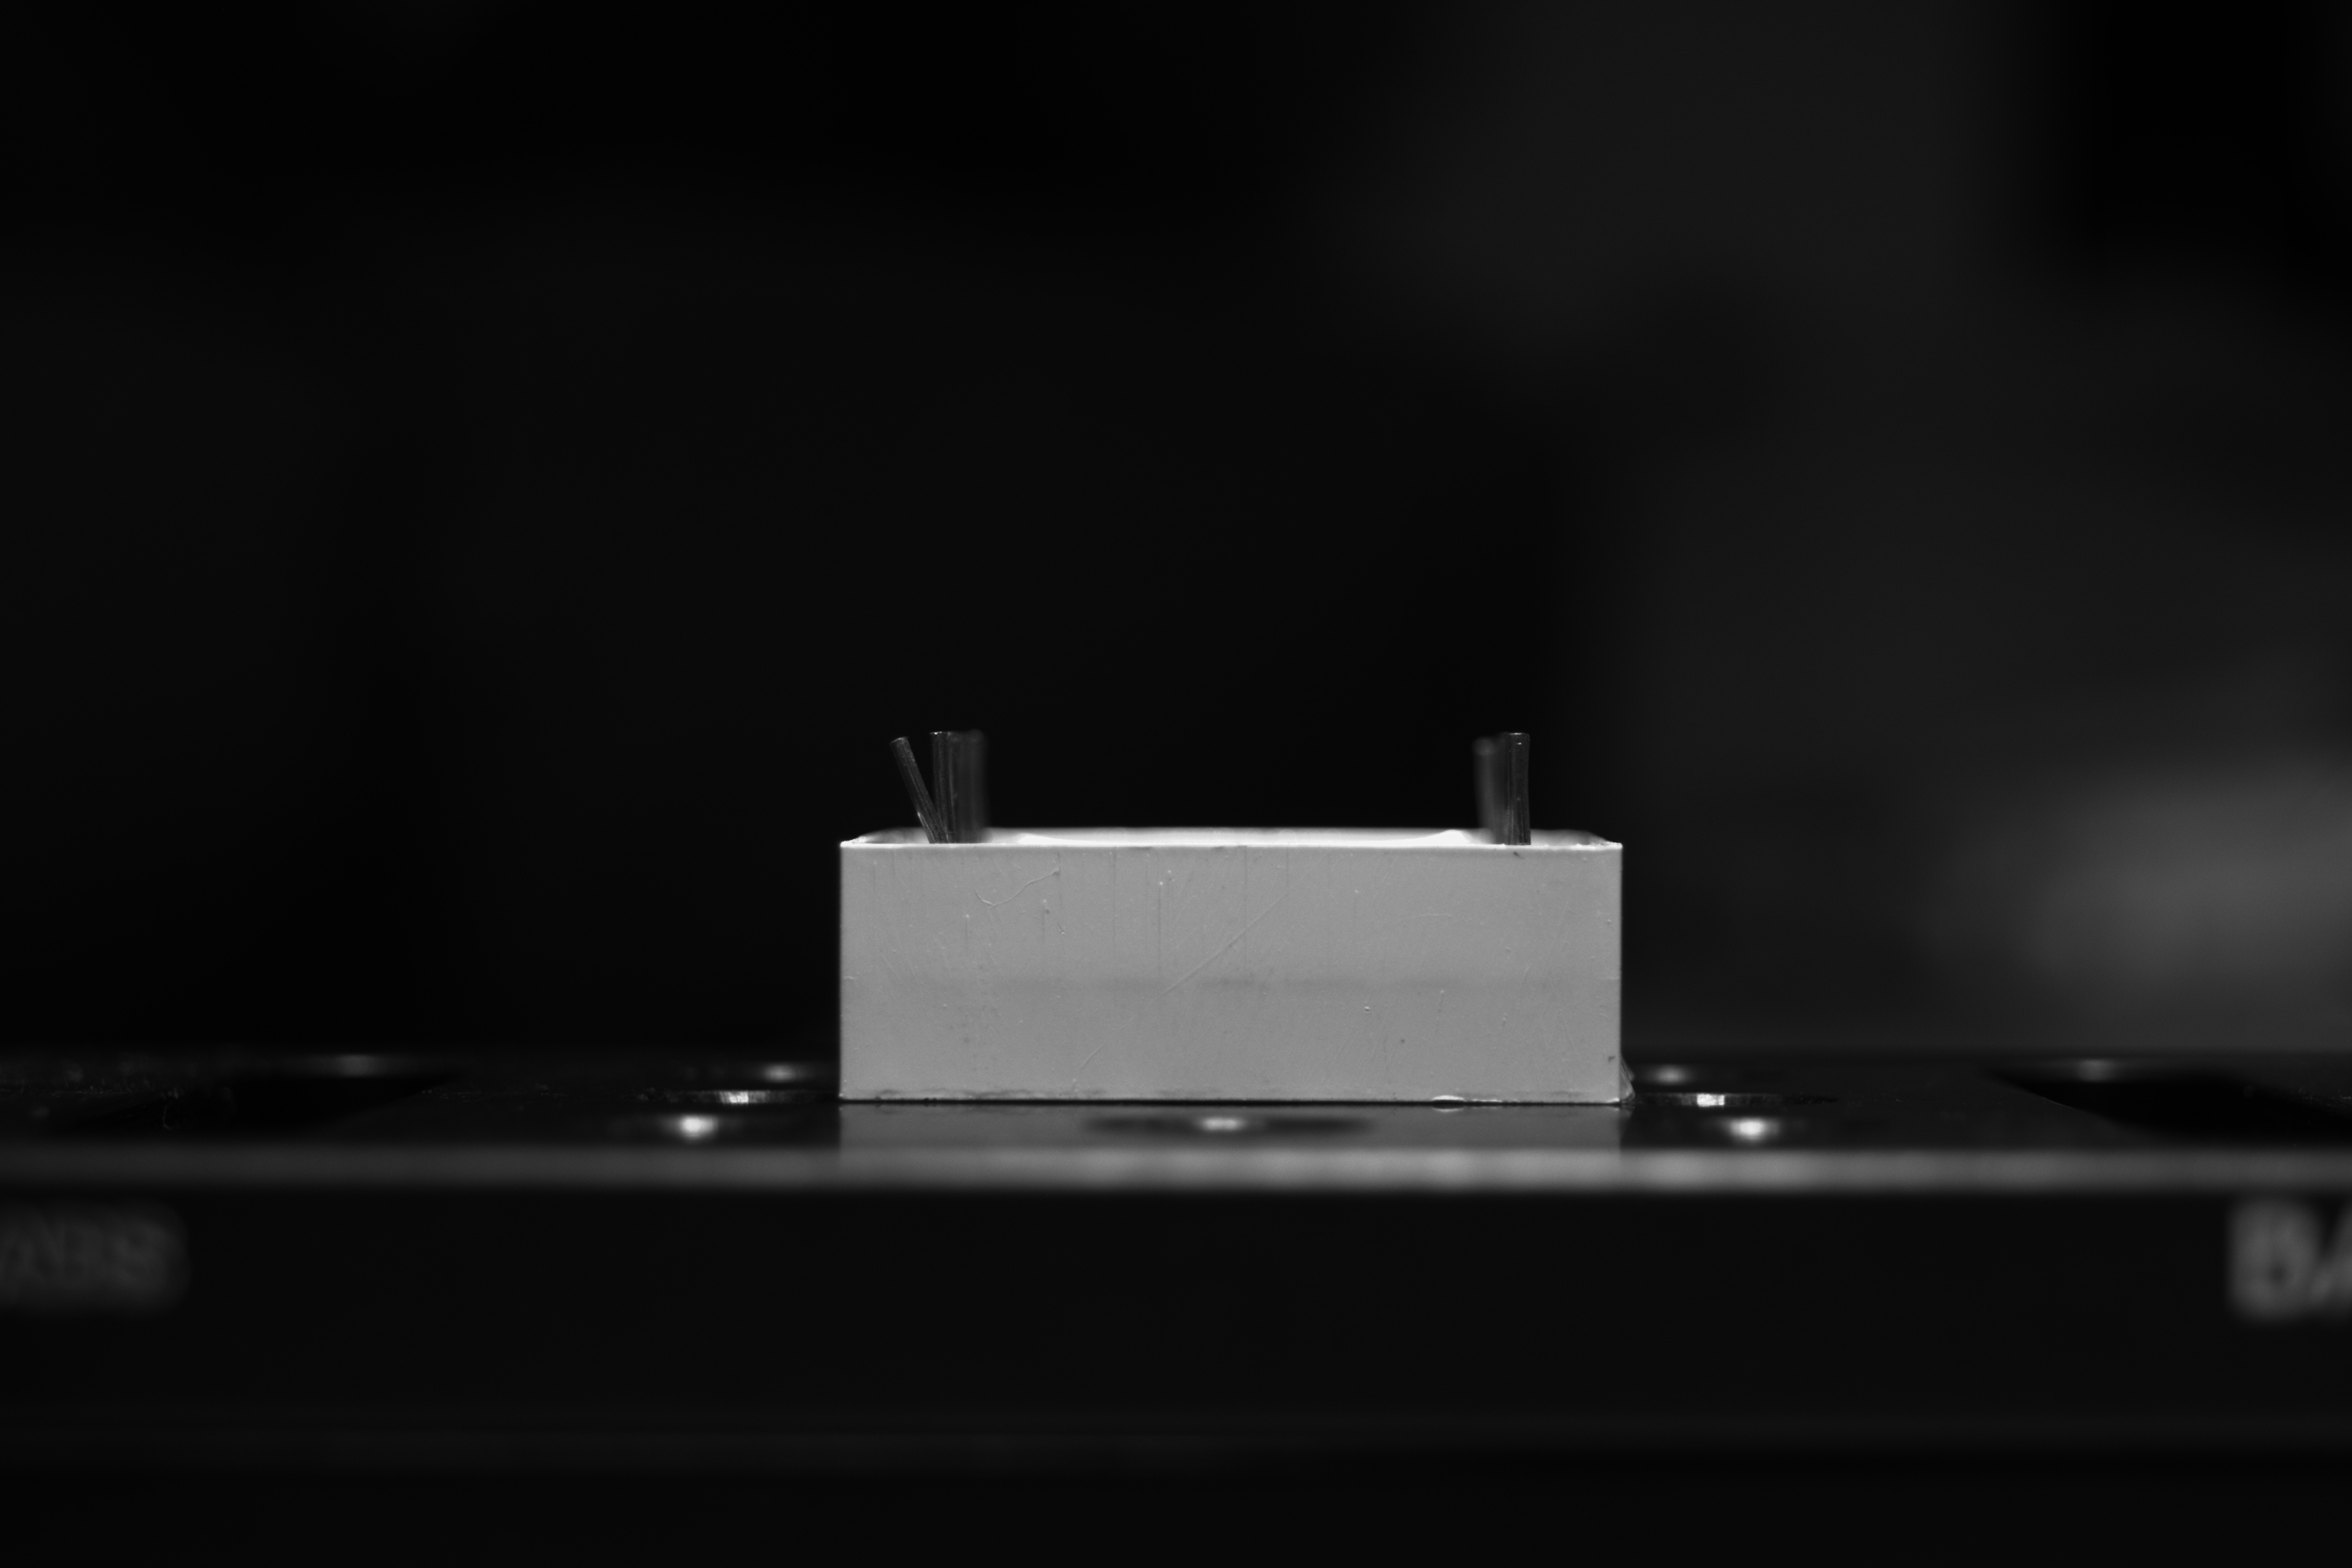pin_inclined_side: (887, 733, 952, 847)
